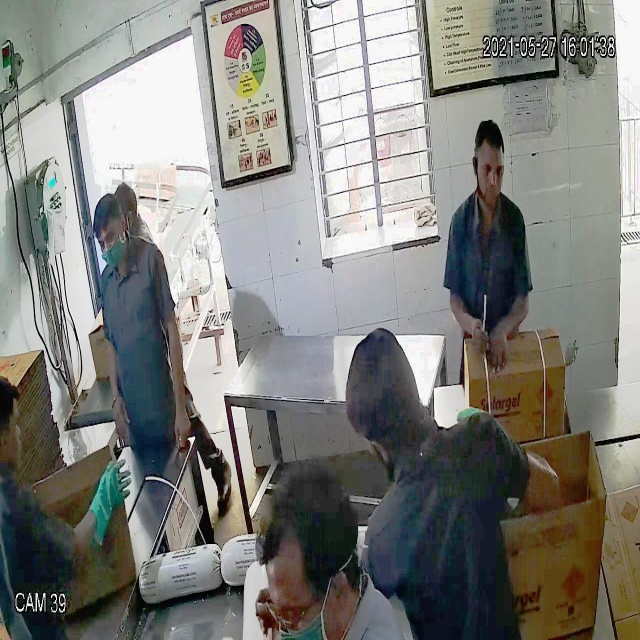Sin_gafas: (91, 220, 127, 259), (468, 151, 509, 185)
